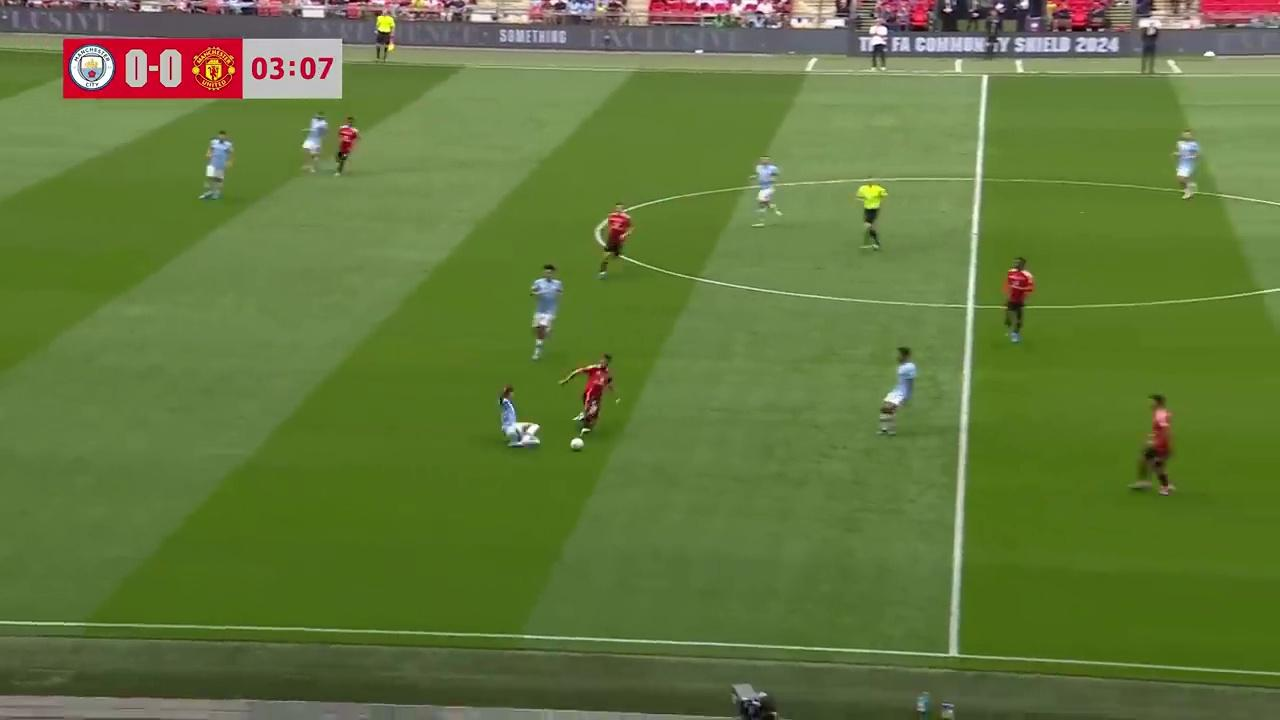ball: (569, 435, 584, 452)
player: (558, 353, 617, 446), (1129, 394, 1176, 495), (876, 346, 918, 436), (528, 263, 563, 360), (496, 384, 541, 451), (1001, 256, 1034, 344), (595, 203, 633, 278), (199, 129, 234, 201), (1171, 130, 1201, 200), (751, 157, 781, 218), (301, 111, 329, 173), (333, 115, 360, 176)
referee: (853, 174, 888, 250), (373, 11, 396, 64)
